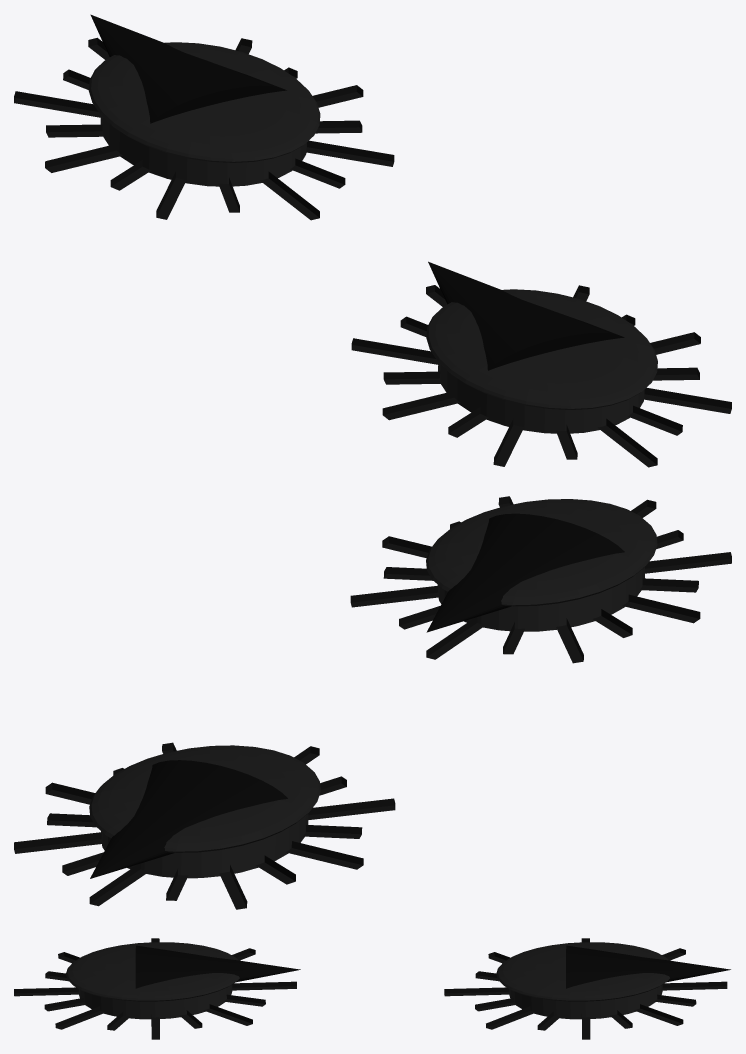
The model's file is Cooker Unit (Oven Hob Buttons).fbx.
The picture shows the model from 3 angles, top to bottom: view 1: azimuth 30°, elevation 25°; view 2: azimuth 150°, elevation 25°; view 3: azimuth 270°, elevation 25°; orthographic projection. The views are drawn at different scales.
Parts seen in each view (by area): view 1: Cooker Buttons.008, Cooker Buttons.007; view 2: Cooker Buttons.008, Cooker Buttons.007; view 3: Cooker Buttons.008, Cooker Buttons.007.
Boxes of the visible parts, <box> form: Cooker Buttons.008: <box>14,14,394,220</box>; Cooker Buttons.007: <box>351,261,731,467</box>; Cooker Buttons.008: <box>14,742,395,909</box>; Cooker Buttons.007: <box>350,496,731,663</box>; Cooker Buttons.008: <box>444,938,730,1039</box>; Cooker Buttons.007: <box>14,938,300,1039</box>.
Size of the model in its own units: 0.0627 by 0.0113 by 0.196.
22 materials, 2 textured.
